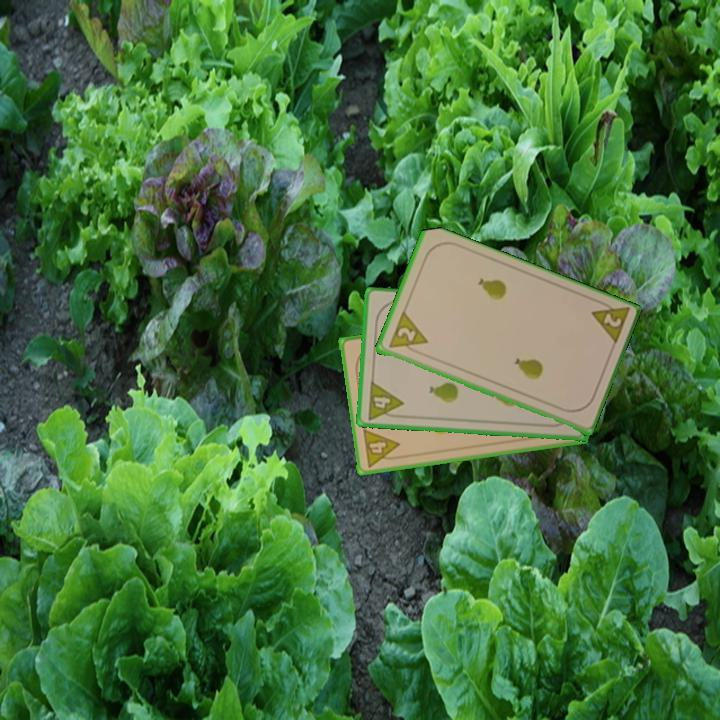2p: (587, 296, 632, 349), (385, 310, 430, 357)
4p: (359, 425, 404, 470), (364, 378, 406, 423)
